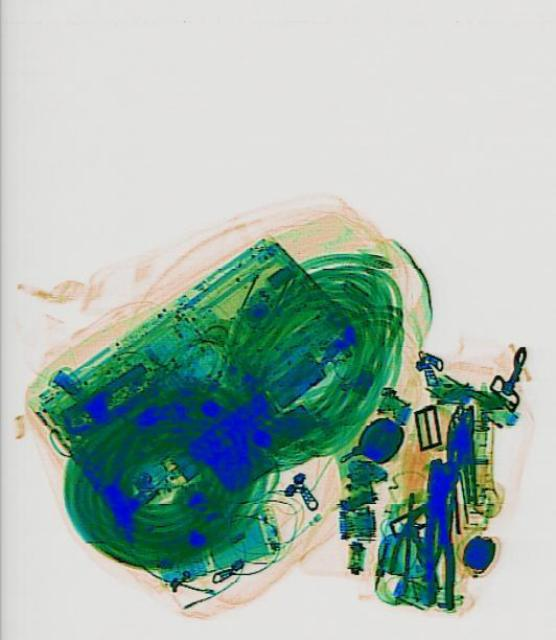Pliers: (417, 460, 453, 608)
